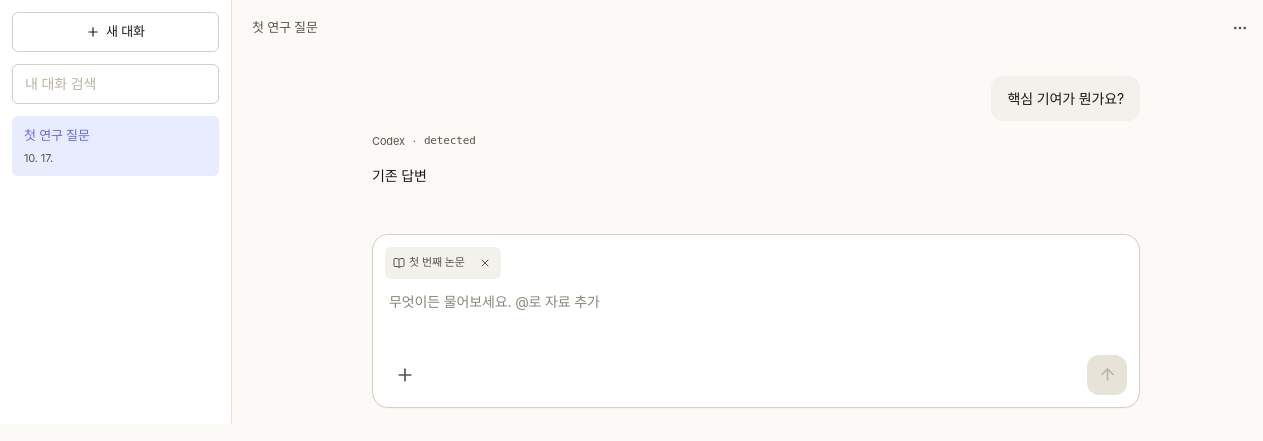
it: AI 연구 채팅 › 저장 대화의 자료를 제거해도 기존 답변을 유지하고 새 질문을 작성한다
This screenshot has width=1263, height=441.
Click the button named "첫 번째 논문 선택 해제" at (485, 262), box [469,246,501,278]
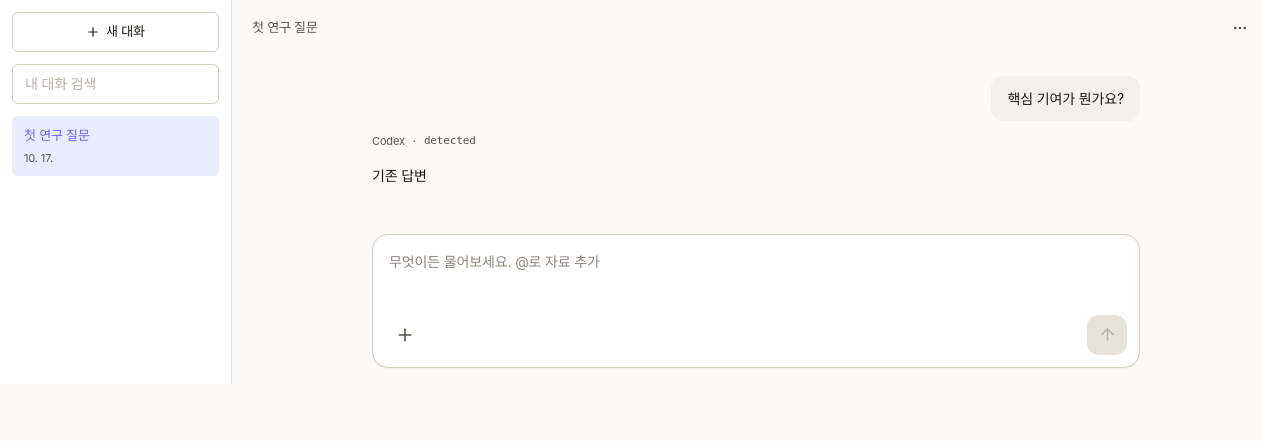
Type "새로운 주제로 이야기하자" into the text box named "연구 질문" at (756, 278), box [385,246,1127,310]
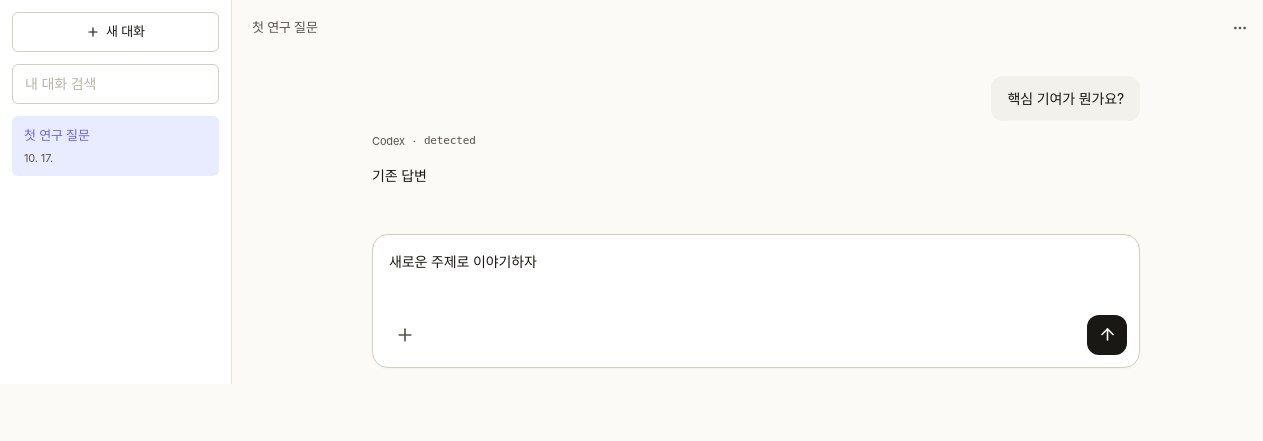
Check: the text "기존 답변" is shown, box [372,166,427,184]
Check: the button named "보내기" is enabled, box [1087,314,1127,354]
